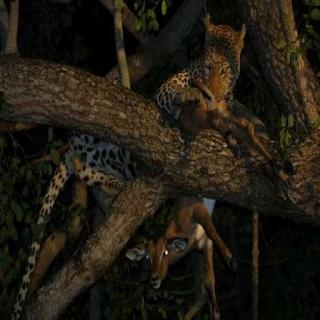Leopard: (84, 7, 305, 240)
